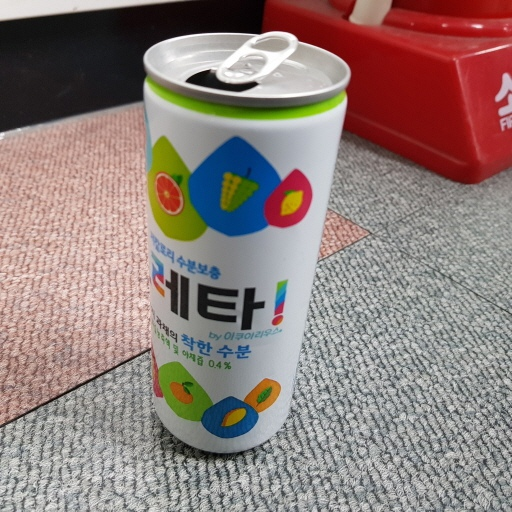Metal_0: (138, 26, 352, 457)
